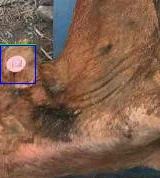text: (0, 44, 35, 83)
